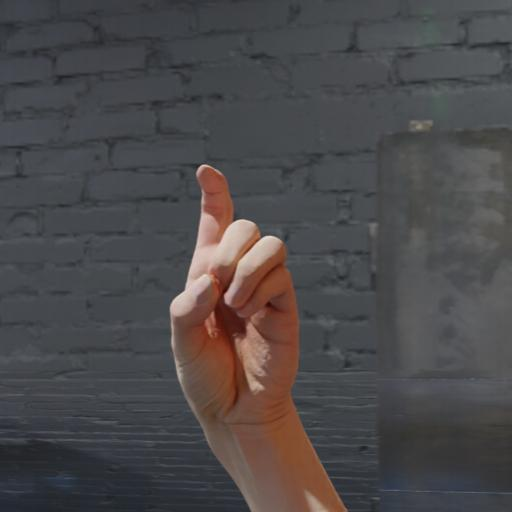X: (136, 151, 371, 490)
